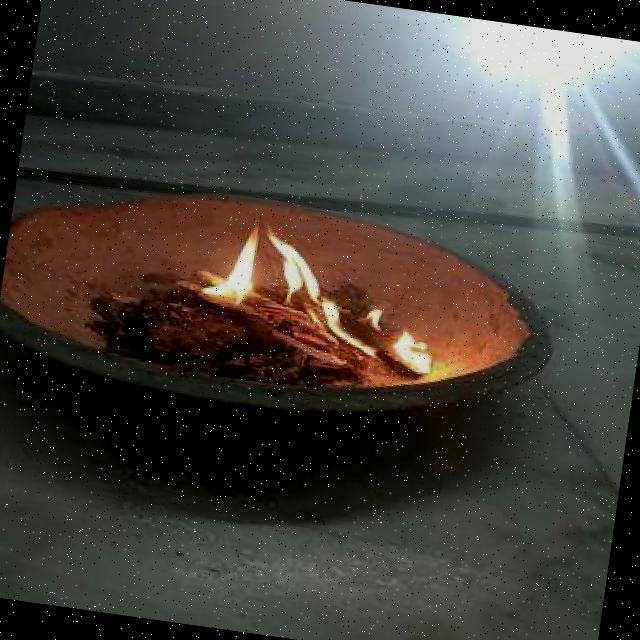Fire: (163, 206, 450, 380)
